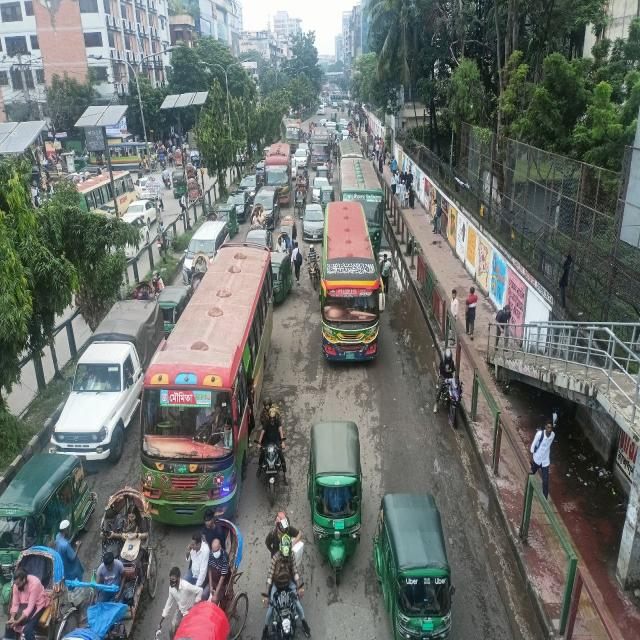people: (378, 252, 394, 297), (290, 240, 303, 285)
vehicle: (140, 241, 274, 526), (47, 300, 166, 464), (0, 450, 98, 614), (372, 489, 455, 640), (155, 508, 248, 640), (84, 485, 160, 639), (318, 200, 387, 367), (307, 419, 363, 586), (4, 545, 80, 640), (261, 509, 311, 640), (339, 156, 386, 254), (254, 395, 290, 505), (183, 220, 231, 286), (434, 344, 464, 431), (172, 596, 229, 640), (158, 285, 192, 338), (264, 143, 292, 204), (336, 138, 369, 184), (249, 185, 281, 230), (269, 250, 294, 303), (300, 202, 326, 242), (235, 171, 262, 205), (305, 243, 323, 291), (311, 126, 331, 169), (217, 203, 240, 239), (227, 189, 252, 221), (280, 118, 302, 152), (244, 228, 274, 252), (293, 184, 308, 220), (310, 176, 330, 203), (130, 280, 156, 300), (250, 203, 267, 230), (280, 215, 297, 241), (319, 184, 335, 211), (190, 250, 211, 270), (275, 231, 292, 254), (190, 272, 207, 294), (150, 270, 165, 294), (323, 159, 335, 183), (294, 148, 309, 167), (316, 165, 330, 182), (296, 141, 310, 157), (256, 157, 265, 180), (325, 120, 336, 136), (302, 168, 310, 190), (290, 157, 298, 179), (295, 173, 307, 186), (205, 211, 219, 222), (332, 140, 338, 159), (317, 105, 326, 117), (341, 129, 350, 141), (330, 110, 338, 123), (308, 121, 315, 133), (319, 119, 328, 128), (347, 122, 355, 132), (264, 146, 271, 157), (301, 132, 308, 143), (250, 162, 257, 172), (337, 123, 344, 133), (335, 132, 343, 140), (350, 132, 358, 140), (342, 120, 349, 129), (331, 101, 338, 109), (339, 118, 346, 124), (341, 104, 345, 114), (336, 136, 341, 143), (305, 137, 309, 144), (336, 103, 339, 111)
